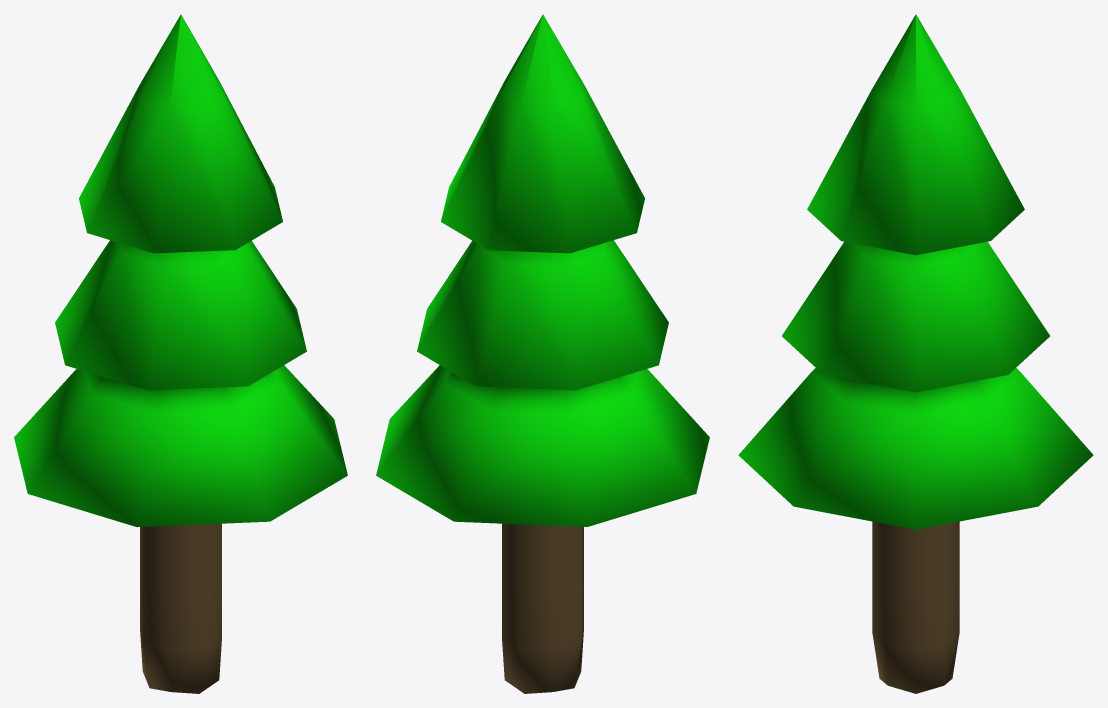
File: TreeLOD1.fbx
The picture shows the model from 3 angles, left to right: view 1: azimuth 30°, elevation 25°; view 2: azimuth 150°, elevation 25°; view 3: azimuth 270°, elevation 25°; orthographic projection.
Visible parts, largest first — view 1: HojasLOD1, troncoLOD1; view 2: HojasLOD1, troncoLOD1; view 3: HojasLOD1, troncoLOD1.
Boxes of the visible parts, <box> form: HojasLOD1: <box>14,14,347,526</box>; troncoLOD1: <box>140,523,221,693</box>; HojasLOD1: <box>376,14,709,526</box>; troncoLOD1: <box>502,523,583,693</box>; HojasLOD1: <box>738,14,1093,529</box>; troncoLOD1: <box>872,521,959,693</box>.
Size of the model in its own units: 281 by 591 by 282.
